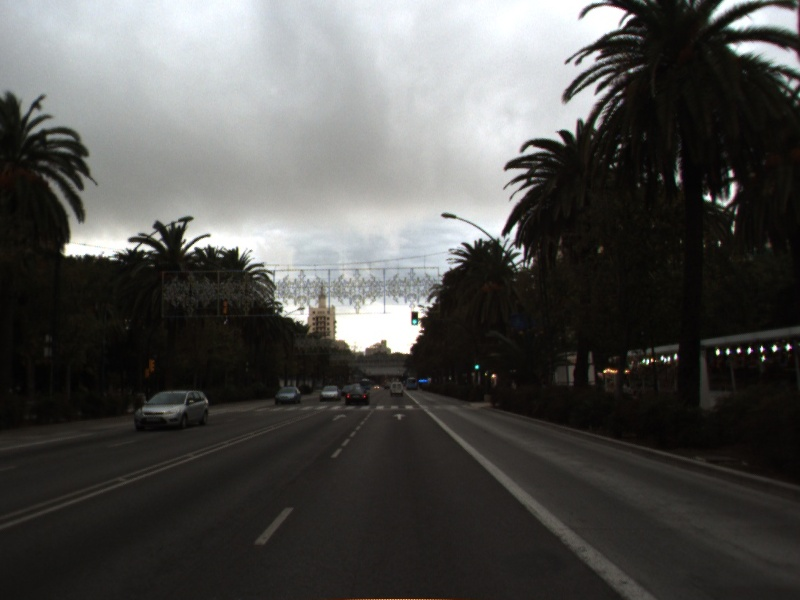STRAIGHT: (329, 412, 349, 423), (391, 411, 408, 422)
